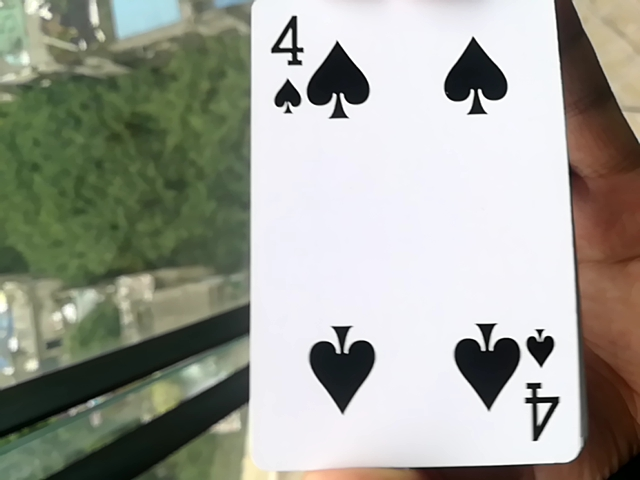ht 4: (240, 9, 596, 474)
